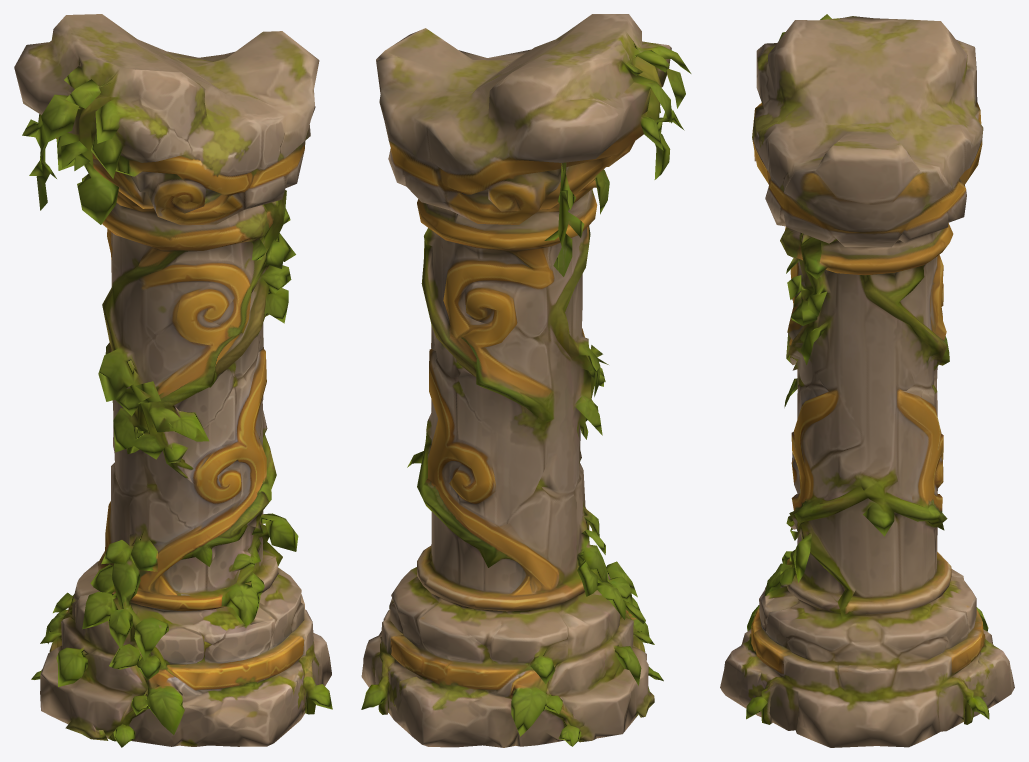
The model's file is sutun.glb.
The picture shows the model from 3 angles, left to right: view 1: azimuth 30°, elevation 25°; view 2: azimuth 150°, elevation 25°; view 3: azimuth 270°, elevation 25°; orthographic projection. The views are drawn at different scales.
Parts seen in each view (by area): view 1: tripo_node_2d7f5d73-e43b-464c-9135-37f754c9dbb4; view 2: tripo_node_2d7f5d73-e43b-464c-9135-37f754c9dbb4; view 3: tripo_node_2d7f5d73-e43b-464c-9135-37f754c9dbb4.
Part boxes in pixels (x1,y1,x2,y2): tripo_node_2d7f5d73-e43b-464c-9135-37f754c9dbb4: (14, 14, 332, 747); tripo_node_2d7f5d73-e43b-464c-9135-37f754c9dbb4: (361, 14, 691, 747); tripo_node_2d7f5d73-e43b-464c-9135-37f754c9dbb4: (720, 14, 1014, 747).
Size of the model in its own units: 0.4281 by 0.9795 by 0.4141.
1 material, 1 textured.
